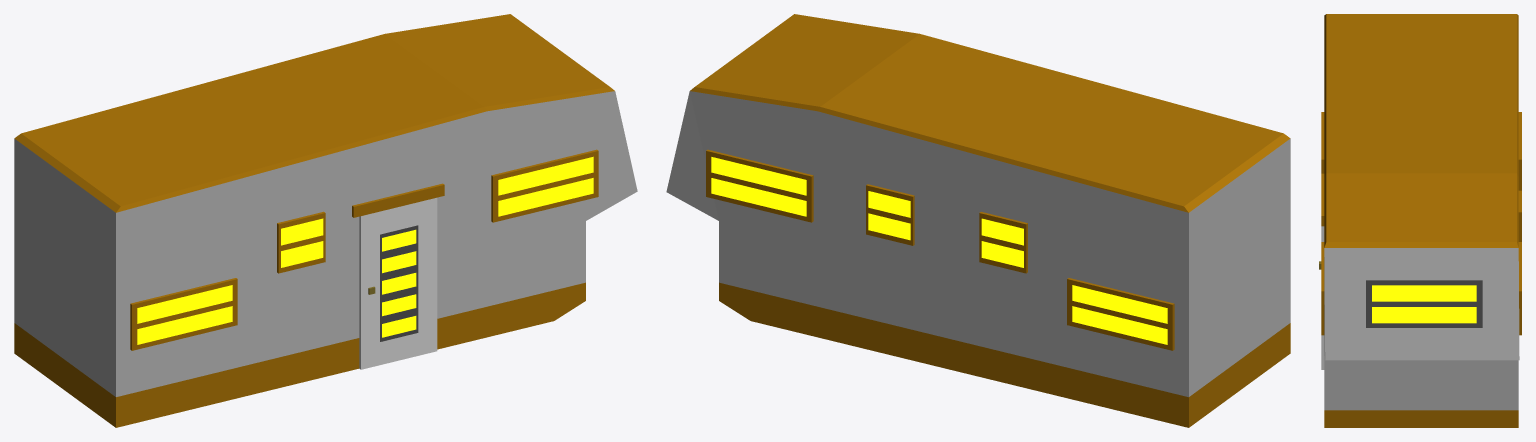
The model's file is trailer3.fbx.
3 views of the same model, side by side, from view 1: azimuth 30°, elevation 25°; view 2: azimuth 150°, elevation 25°; view 3: azimuth 270°, elevation 25° (orthographic). The views are drawn at different scales.
Parts seen in each view (by area): view 1: Trailer core -col; view 2: Trailer core -col; view 3: Trailer core -col.
Boxes of the visible parts, x1=… form: Trailer core -col: x1=14, y1=14, x2=637, y2=427; Trailer core -col: x1=666, y1=14, x2=1290, y2=427; Trailer core -col: x1=1319, y1=14, x2=1521, y2=427.
Bounding box in the file's own units: 1778 × 749 × 627.
